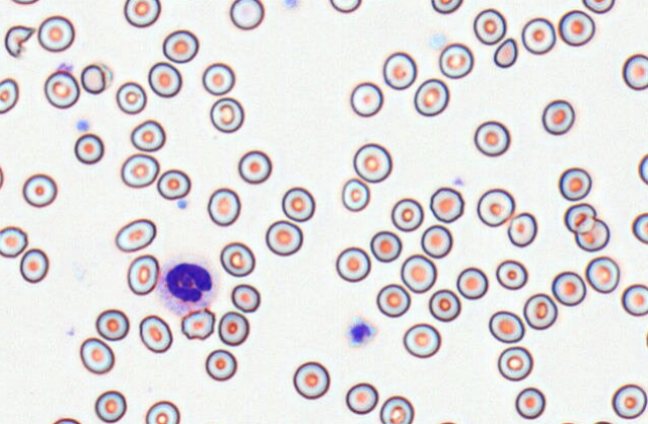GRAN: (158, 253, 218, 316)
PLT: (346, 317, 377, 347), (74, 115, 92, 135), (175, 199, 186, 212)
RBC: (353, 142, 392, 183), (476, 188, 514, 227), (292, 361, 330, 399), (400, 253, 436, 293), (114, 218, 156, 252), (265, 219, 303, 256), (557, 9, 595, 46), (43, 70, 80, 108), (402, 322, 441, 358), (37, 15, 74, 52), (413, 78, 449, 116), (120, 153, 159, 188), (126, 254, 159, 295), (473, 120, 510, 156), (585, 255, 620, 293), (138, 314, 172, 353), (382, 51, 416, 90), (574, 216, 610, 252), (497, 345, 533, 381), (611, 383, 647, 419), (219, 241, 255, 277), (79, 337, 114, 374), (429, 186, 464, 223), (521, 17, 556, 54), (438, 42, 473, 79), (523, 292, 557, 330), (207, 187, 240, 226), (551, 270, 586, 306), (335, 246, 370, 282), (209, 97, 244, 133), (237, 149, 272, 184), (281, 186, 315, 222), (162, 29, 198, 63), (349, 81, 383, 117), (541, 99, 575, 135), (473, 8, 506, 45), (22, 173, 57, 207), (488, 310, 524, 343), (148, 61, 181, 97), (376, 283, 410, 317), (558, 167, 592, 201), (180, 307, 215, 340), (130, 119, 165, 152), (217, 310, 249, 346), (428, 288, 461, 322), (390, 197, 423, 231), (94, 389, 127, 423), (95, 308, 129, 341), (156, 168, 191, 200), (204, 348, 237, 381), (202, 62, 235, 95), (420, 224, 452, 258), (507, 211, 537, 247), (369, 230, 402, 262), (456, 266, 488, 299), (345, 382, 378, 414), (229, 0, 264, 30), (80, 62, 112, 94), (563, 202, 596, 233), (514, 386, 545, 419), (115, 81, 146, 114), (19, 248, 48, 283), (379, 395, 414, 424), (123, 0, 160, 27), (495, 259, 527, 290), (341, 177, 370, 211), (622, 53, 648, 90), (74, 132, 104, 164), (0, 225, 28, 257), (621, 283, 648, 316), (230, 283, 260, 312), (145, 400, 180, 424), (493, 37, 517, 68), (0, 77, 19, 114), (631, 212, 648, 244), (431, 0, 463, 14), (581, 0, 615, 13), (329, 0, 361, 13), (638, 152, 648, 185), (49, 417, 83, 424), (280, 0, 299, 9), (10, 0, 40, 5), (0, 161, 4, 191), (198, 420, 227, 424), (589, 420, 618, 424), (432, 420, 461, 424), (552, 421, 583, 424), (646, 326, 648, 352)
Schistocyte: (4, 24, 37, 59)
